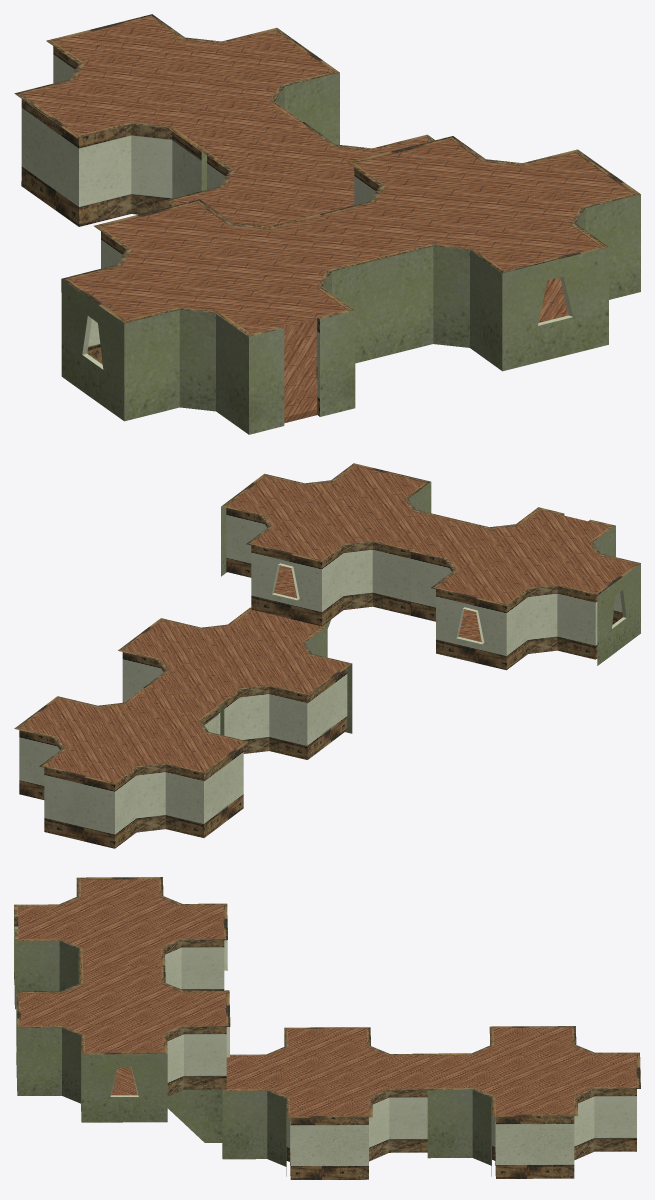
The model's file is HouseInterior_2x1xbasementDobleV2.fbx.
3 renders of one model, top to bottom at view 1: azimuth 30°, elevation 25°; view 2: azimuth 150°, elevation 25°; view 3: azimuth 270°, elevation 25°, orthographic. The views are drawn at different scales.
Parts seen in each view (by area): view 1: CasaCahci; view 2: CasaCahci; view 3: CasaCahci.
Part boxes in pixels (left/top/right/bottom): CasaCahci: left=14, top=14, right=640, bottom=434; CasaCahci: left=14, top=463, right=640, bottom=848; CasaCahci: left=14, top=877, right=640, bottom=1179.
Size of the model in its own units: 912 by 318 by 1363.
